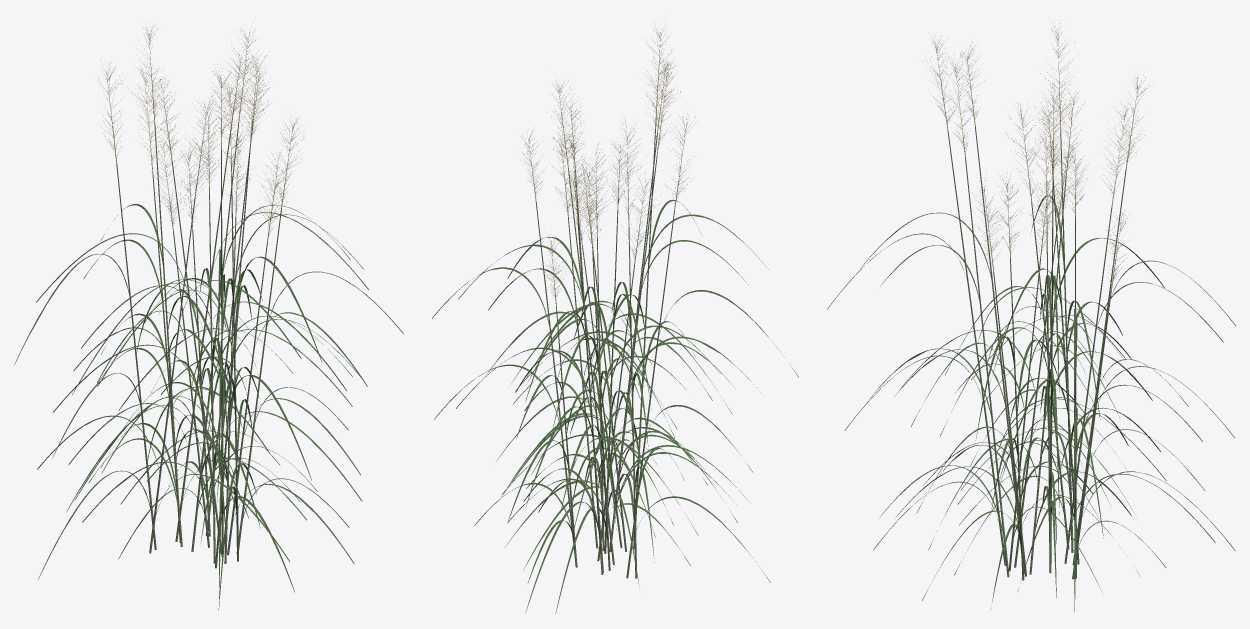
File: saccharum-3.glb
3 renders of one model, left to right at view 1: azimuth 30°, elevation 25°; view 2: azimuth 150°, elevation 25°; view 3: azimuth 270°, elevation 25°, orthographic. The views are drawn at different scales.
Parts seen in each view (by area): view 1: grass-leaf, stem, panicle, rachis, silky-hairs; view 2: grass-leaf, stem, panicle, rachis, silky-hairs; view 3: grass-leaf, stem, panicle, rachis, silky-hairs.
Part boxes in pixels (x1,y1,x2,y2): grass-leaf: (14, 204, 403, 610); stem: (116, 123, 281, 568); panicle: (100, 27, 302, 235); rachis: (106, 38, 291, 242); silky-hairs: (98, 21, 306, 219); grass-leaf: (432, 199, 798, 613); stem: (535, 118, 674, 578); panicle: (523, 29, 694, 299); rachis: (529, 44, 686, 307); silky-hairs: (522, 29, 695, 291); grass-leaf: (827, 195, 1235, 611); stem: (947, 126, 1126, 580); panicle: (928, 23, 1145, 284); rachis: (936, 43, 1137, 290); silky-hairs: (920, 20, 1152, 280).
Bounding box in the file's own units: 1.42 × 1.99 × 1.36.
4 materials, 2 textured.
